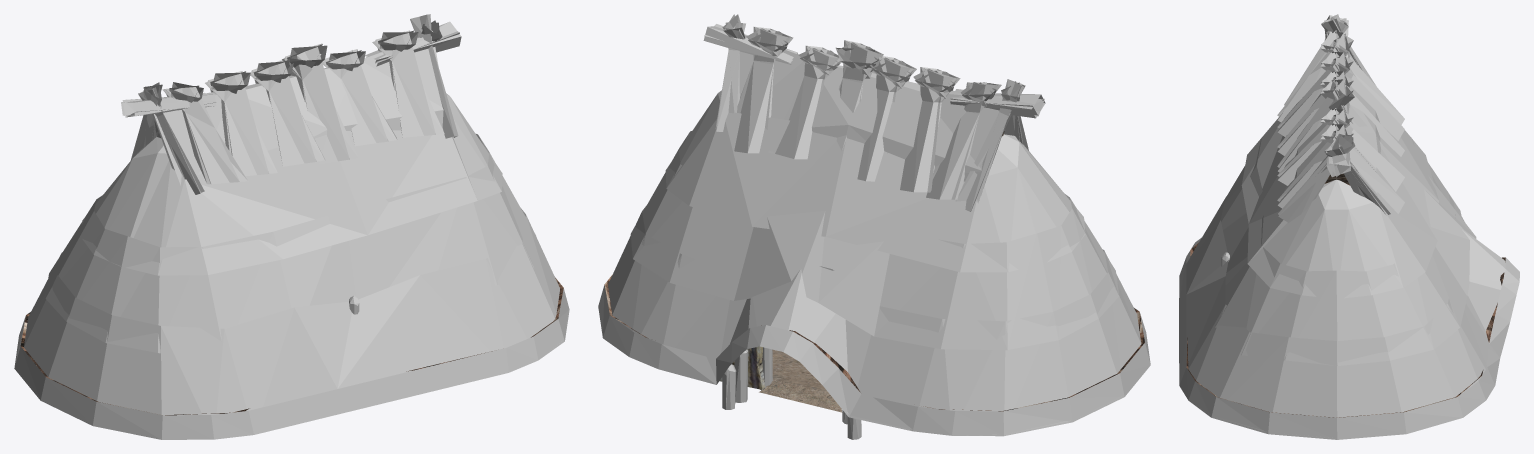
Rendered from Roundhut_3_LOD2.fbx.
3 views of the same model, side by side, from view 1: azimuth 30°, elevation 25°; view 2: azimuth 150°, elevation 25°; view 3: azimuth 270°, elevation 25° (orthographic). The views are drawn at different scales.
Visible parts, largest first — view 1: Alpha, Roofing; view 2: Alpha, Ground, Wood, Roofing, Plaster_4; view 3: Alpha, Roofing.
Part boxes in pixels (<box>): Alpha: <box>14,14,569,439</box>; Roofing: <box>20,277,563,415</box>; Alpha: <box>598,14,1150,436</box>; Ground: <box>759,349,842,412</box>; Wood: <box>722,347,861,439</box>; Roofing: <box>604,274,1144,411</box>; Plaster_4: <box>719,346,764,389</box>; Alpha: <box>1179,14,1519,439</box>; Roofing: <box>1186,183,1505,417</box>.
Bounding box in the file's own units: 2226 × 1481 × 1344.
